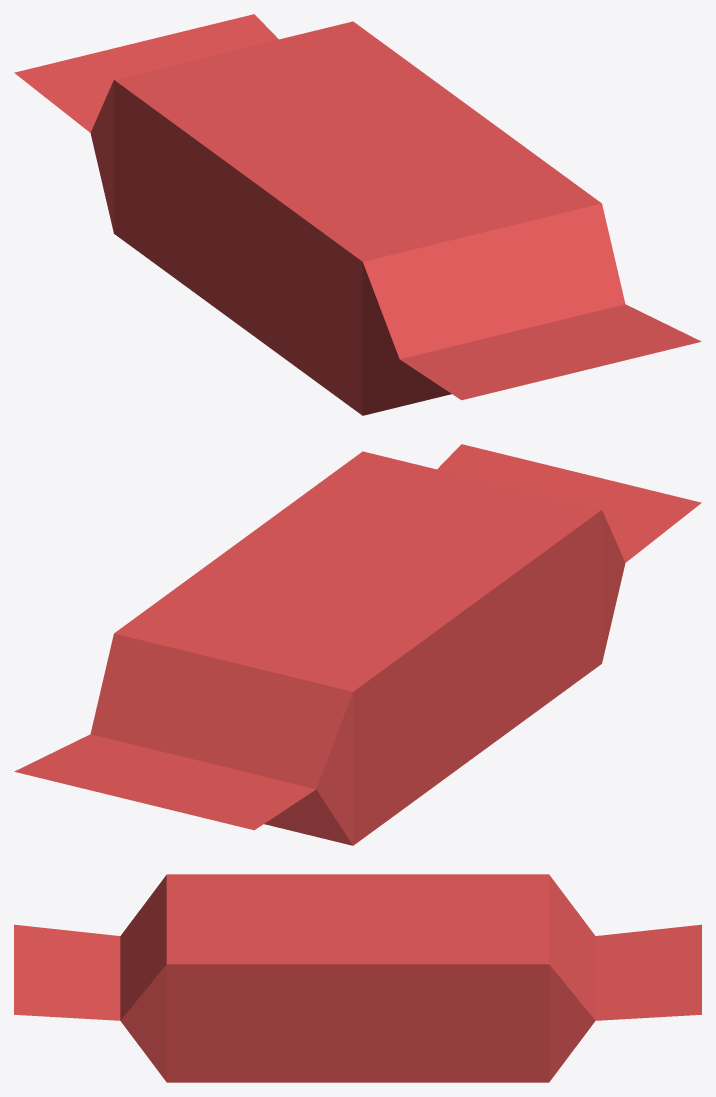
Rendered from candy02.fbx.
3 renders of one model, top to bottom at view 1: azimuth 30°, elevation 25°; view 2: azimuth 150°, elevation 25°; view 3: azimuth 270°, elevation 25°, orthographic. The views are drawn at different scales.
Parts seen in each view (by area): view 1: candyB; view 2: candyB; view 3: candyB.
Boxes of the visible parts, bbox=[...] form: candyB: bbox=[14, 14, 701, 415]; candyB: bbox=[14, 444, 701, 845]; candyB: bbox=[14, 874, 701, 1082].
Bounding box in the file's own units: 0.2421 × 0.1482 × 0.7806.
